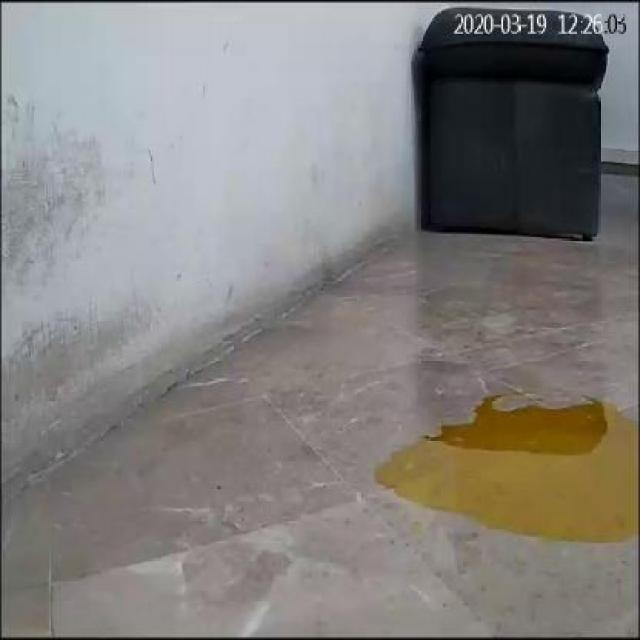spill: (373, 396, 633, 550)
